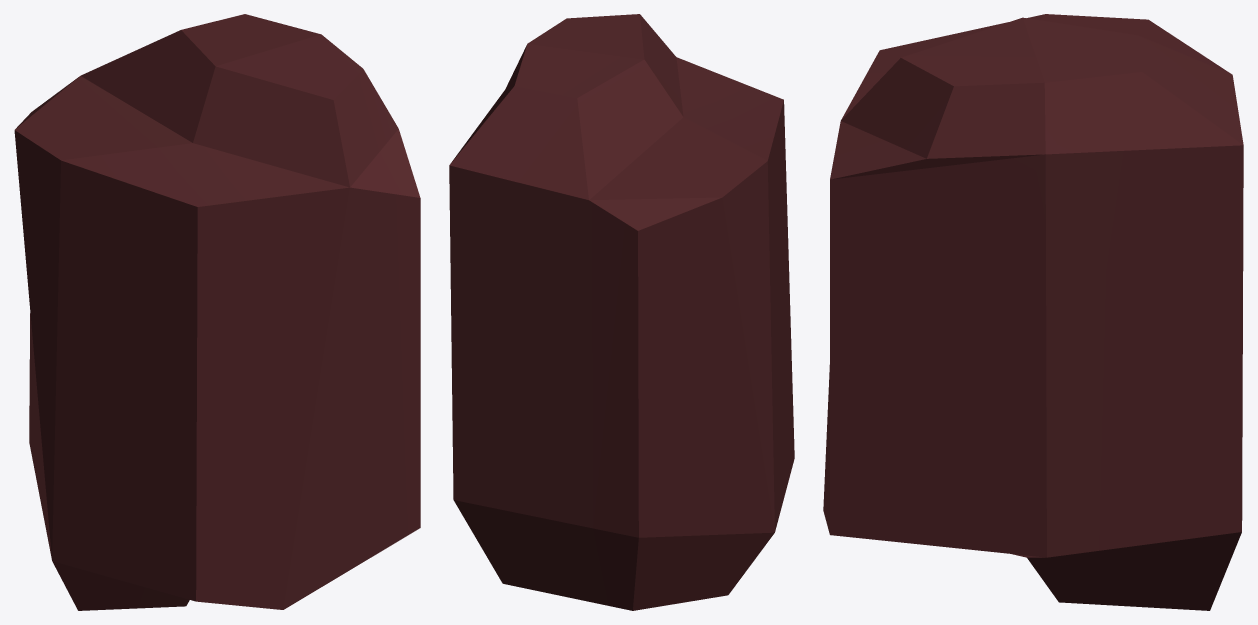
File: entity72982.glb
The picture shows the model from 3 angles, left to right: view 1: azimuth 30°, elevation 25°; view 2: azimuth 150°, elevation 25°; view 3: azimuth 270°, elevation 25°; orthographic projection. The views are drawn at different scales.
Parts seen in each view (by area): view 1: node_SM_Env_Rock_06 (30); view 2: node_SM_Env_Rock_06 (30); view 3: node_SM_Env_Rock_06 (30).
Boxes of the visible parts, box(x1,y1,x2,y2) form: node_SM_Env_Rock_06 (30): box(14, 14, 420, 610); node_SM_Env_Rock_06 (30): box(449, 14, 794, 610); node_SM_Env_Rock_06 (30): box(823, 14, 1243, 610).
Bounding box in the file's own units: 4.55 × 7.96 × 5.12.
1 material, 1 textured.
